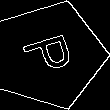P_E: (18, 29, 80, 81)
